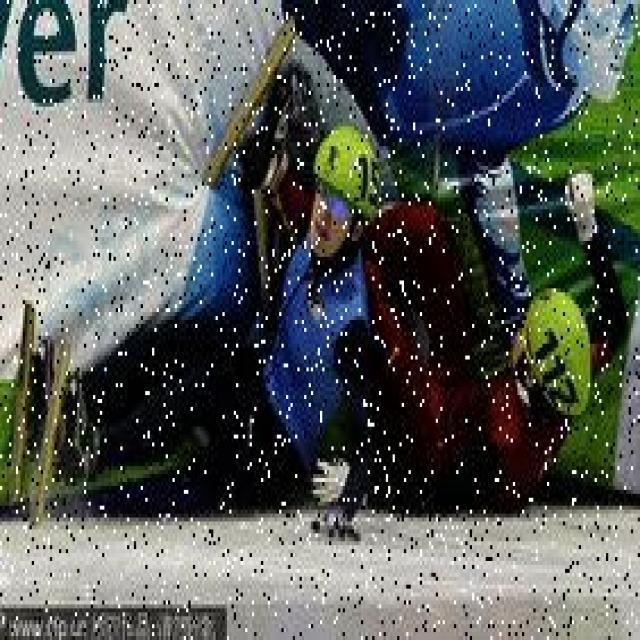fall: (18, 142, 374, 522), (383, 182, 612, 514)
